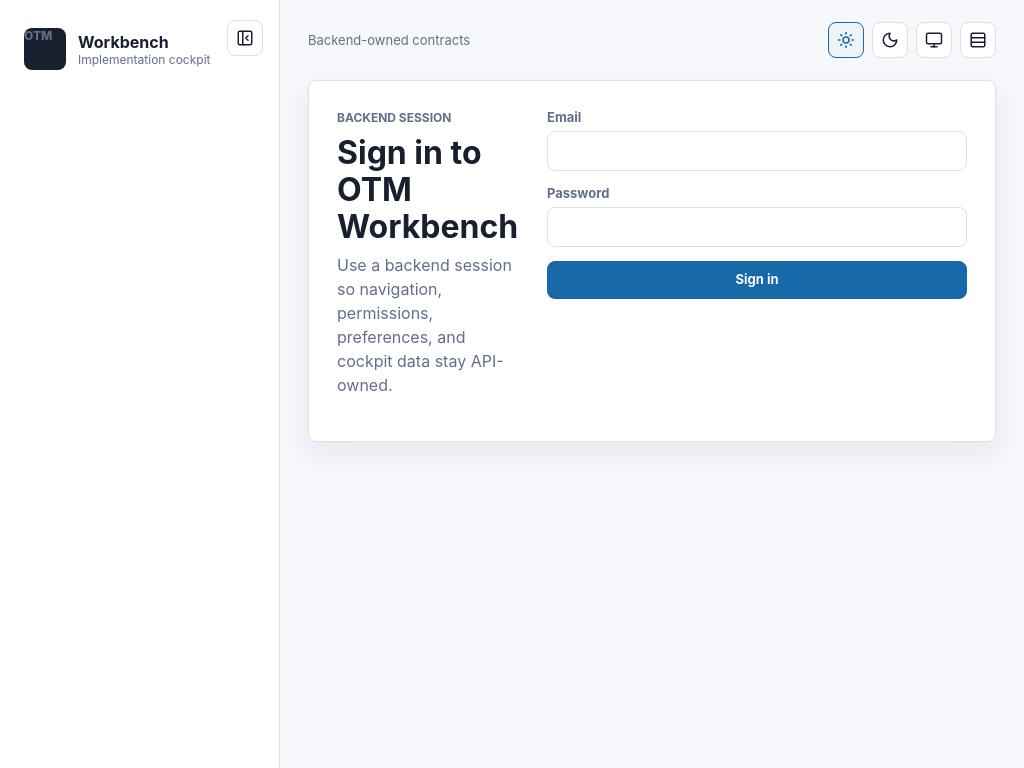
Functional Assets Library journey › renders an asset versions route with history, guarded download, and return paths
Type "admin@example.test" into the field labelled "Email".
click(757, 151); type("admin@example.test")  # box [547,131,967,171]
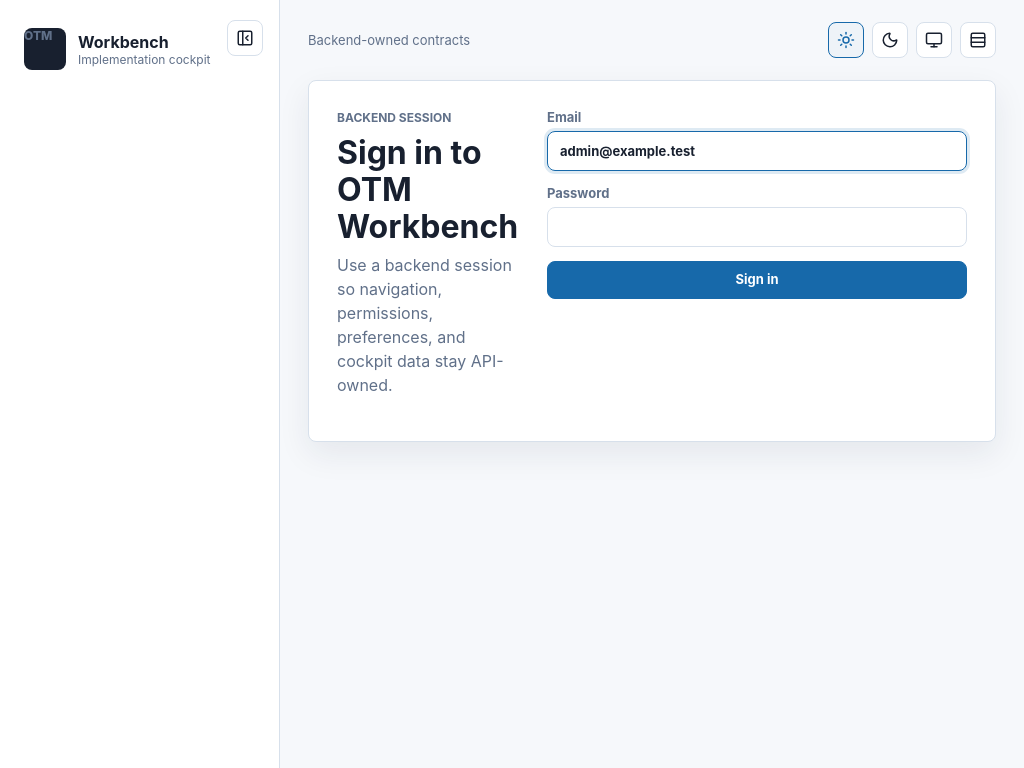
Type "SyntheticPass123!" into the password field labelled "Password".
click(757, 227); type("SyntheticPass123!")  # box [547,207,967,247]
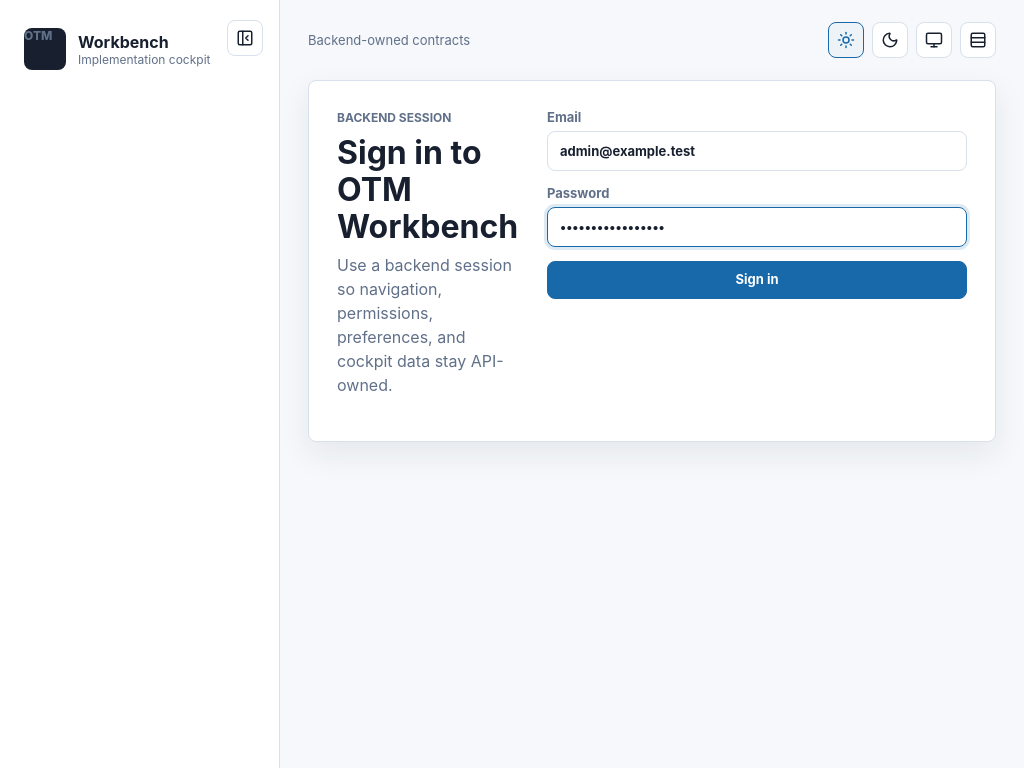
Click the button "Sign in".
click(757, 280)  # box [547,261,967,299]
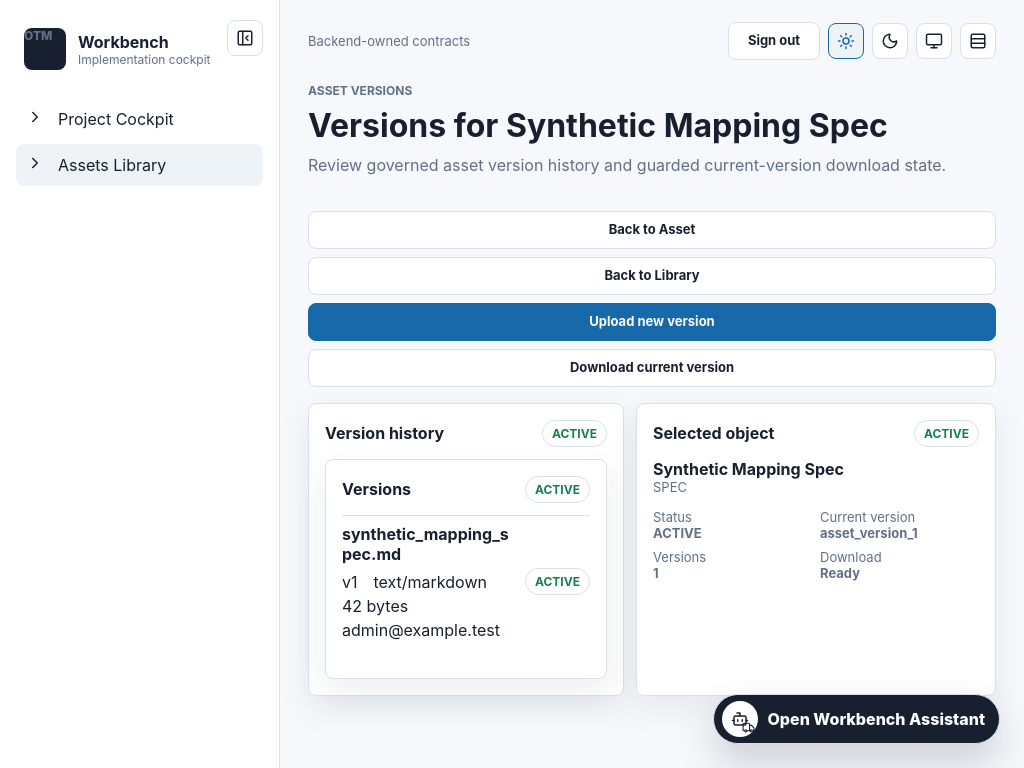
Check: the heading "Versions for Synthetic Mapping Spec" is shown, box [308,108,946,145]
Check: the element named "Asset versions rows" shows "synthetic_mapping_spec.md", box [342,524,509,564]
Check: the element named "Asset versions rows" shows "v1", box [342,572,358,592]
Click the button "Download current version".
click(652, 368)  # box [308,349,996,387]
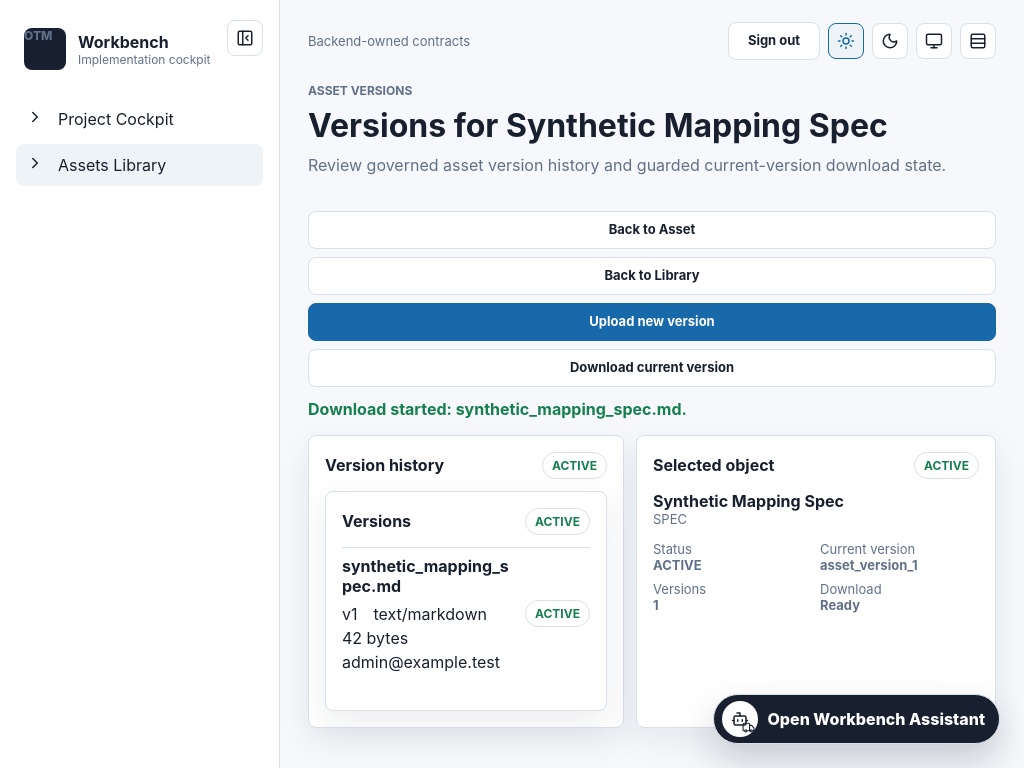
Check: the text "Download started: synthetic_mapping_spec.md." is shown, box [308,399,687,419]
